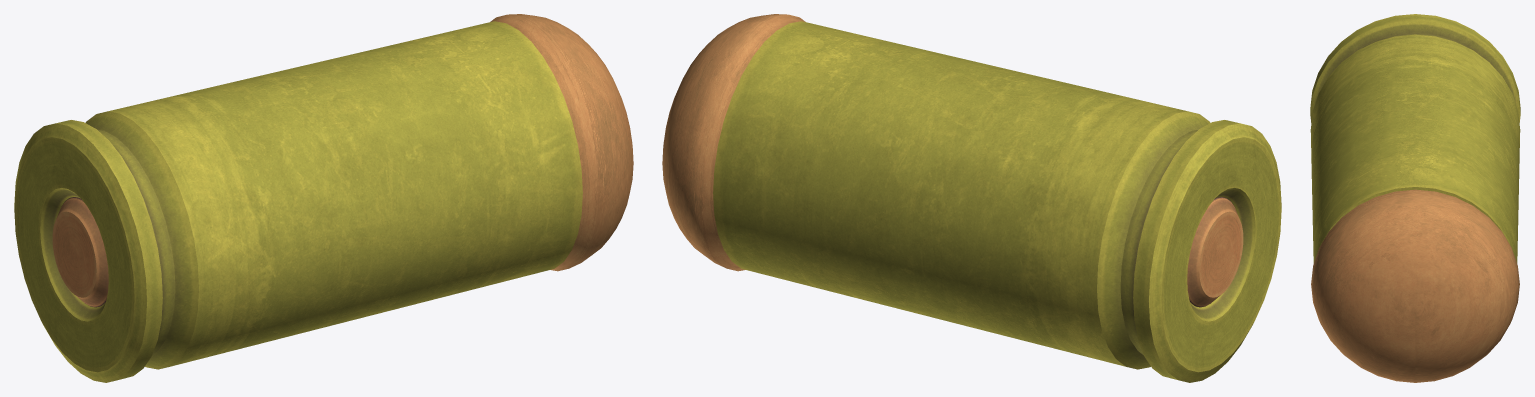
The model's file is bullet_case.glb.
3 views of the same model, side by side, from view 1: azimuth 30°, elevation 25°; view 2: azimuth 150°, elevation 25°; view 3: azimuth 270°, elevation 25° (orthographic). The views are drawn at different scales.
Parts seen in each view (by area): view 1: Case; view 2: Case; view 3: Case.
Boxes of the visible parts, x1,y1,x2,y2 form: Case: (14,14,633,382); Case: (662,14,1281,382); Case: (1310,14,1520,382).
Size of the model in its own units: 2.3 by 0.9949 by 0.9949.
Materials: 1 (1 with a texture image).
